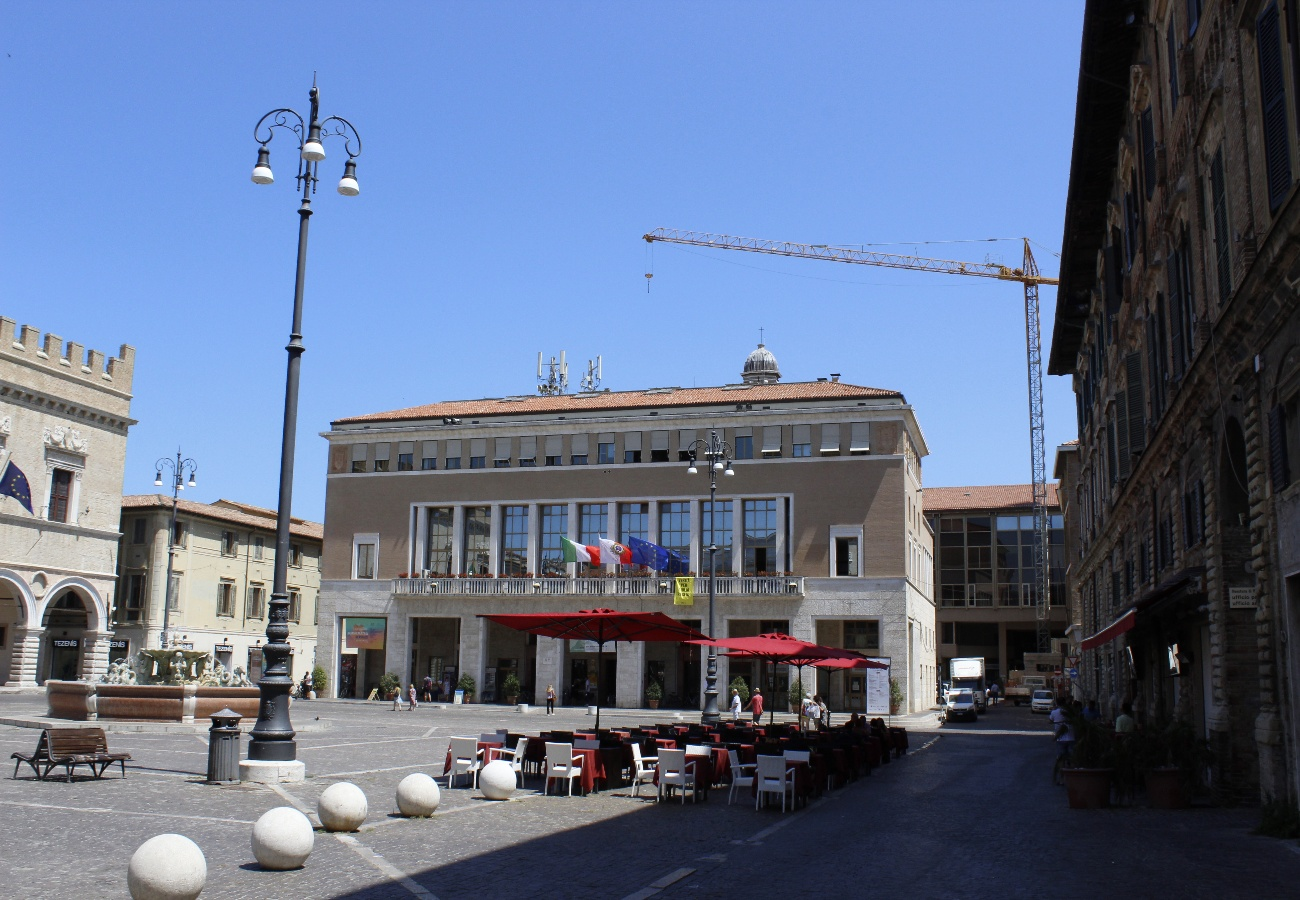Palazzo Comunale: (321, 397, 908, 718)
